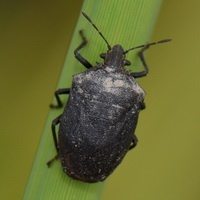insect: (47, 12, 170, 182)
